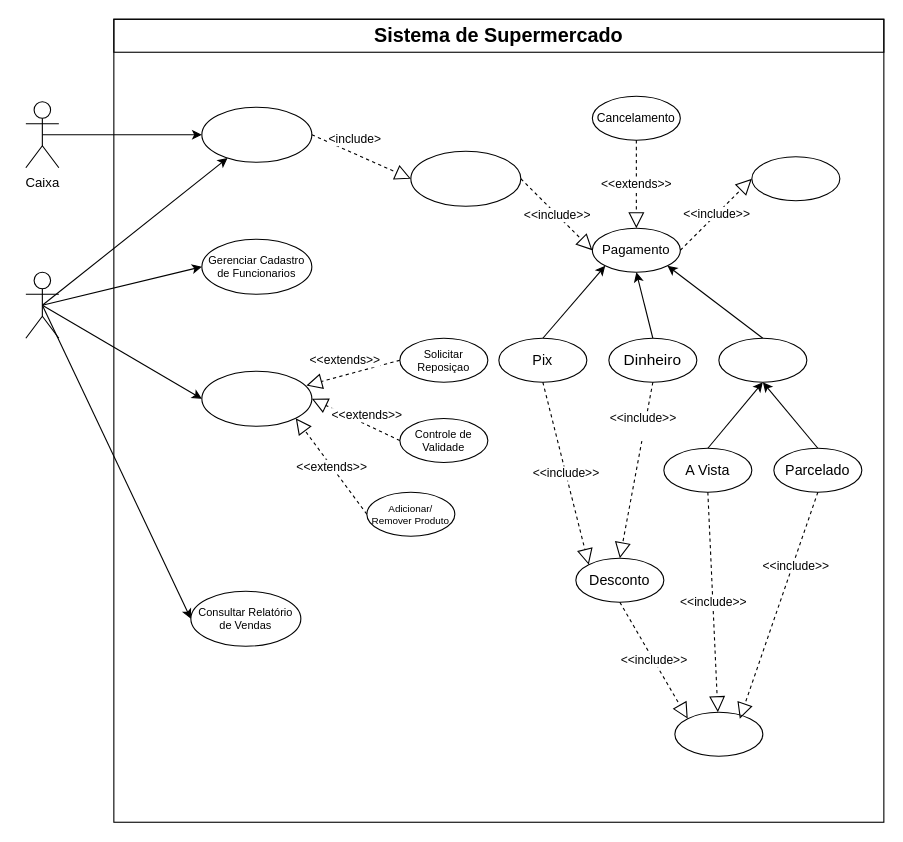
Image size: 903x842. Some labels were removed from this diagram. The centre of each missing label's shape, as x and y in pixels:
Baixa no Estoque: point 795,178
Cartão: point 762,359
Gerenciar Cadastro de Produtos: point 256,398
Gerente: point 42,304
Login/Logout: point 256,134
Recibo: point 718,733
Venda de Produto: point 465,178
